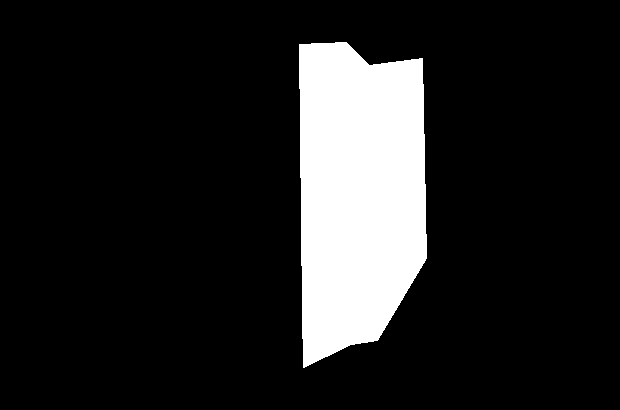type3s: (293, 35, 432, 370)
